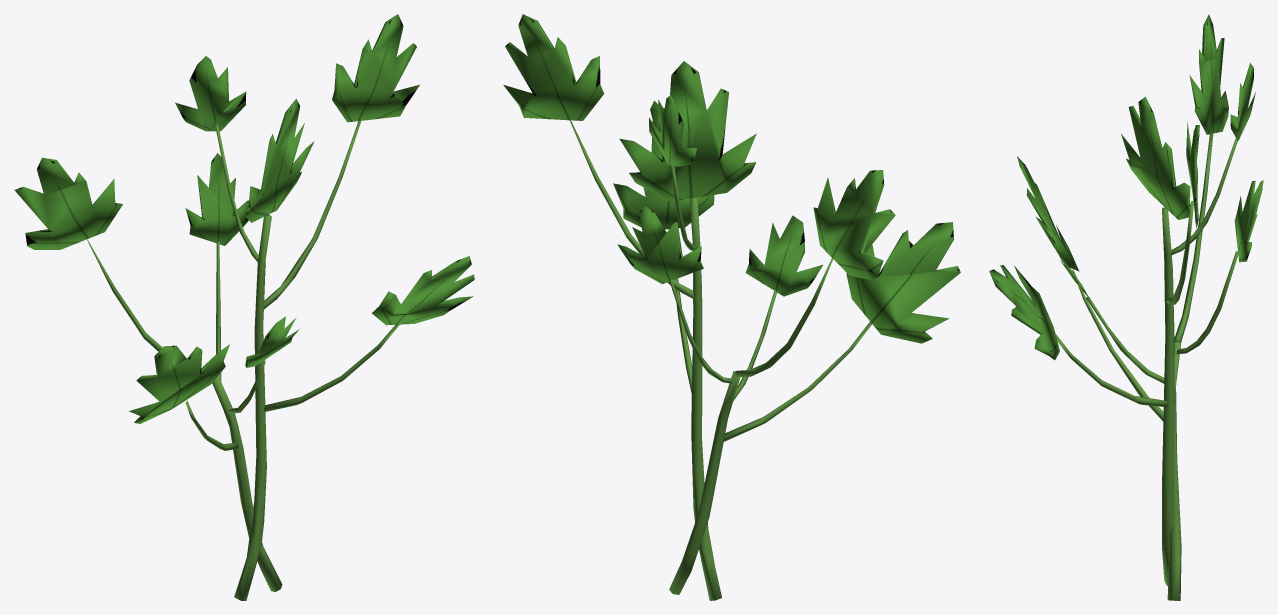
File: Cilantro.fbx
3 views of the same model, side by side, from view 1: azimuth 30°, elevation 25°; view 2: azimuth 150°, elevation 25°; view 3: azimuth 270°, elevation 25° (orthographic). The views are drawn at different scales.
Visible parts, largest first — view 1: Mata_Cilantro_Tallos; view 2: Mata_Cilantro_Tallos; view 3: Mata_Cilantro_Tallos.
Part boxes in pixels (left/top/right/bottom): Mata_Cilantro_Tallos: left=14, top=14, right=474, bottom=600; Mata_Cilantro_Tallos: left=503, top=14, right=960, bottom=600; Mata_Cilantro_Tallos: left=989, top=14, right=1263, bottom=600.
Bounding box in the file's own units: 29.29 × 38.15 × 17.46.
2 materials, 2 textured.
